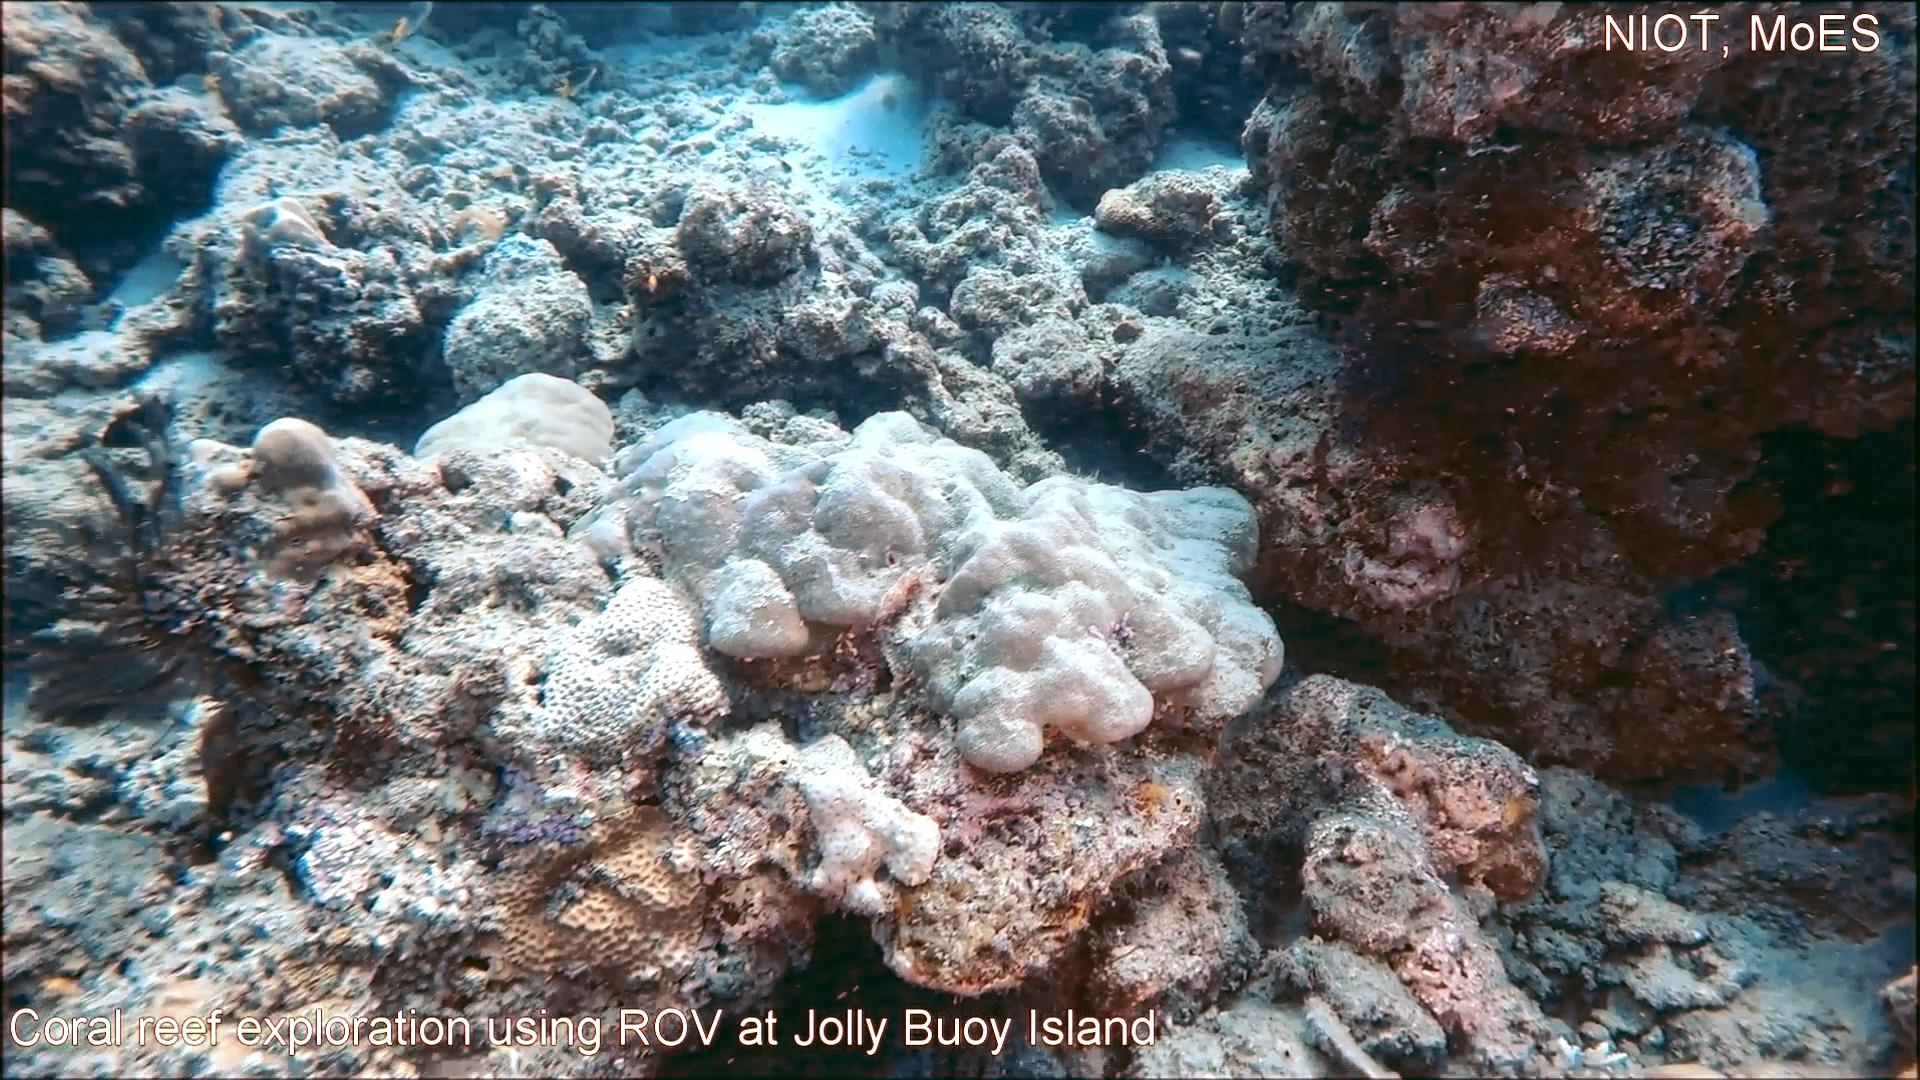Feather star-Crinoid star: (0, 352, 225, 756)
Goniastrea-Goniastrea pectinata: (535, 567, 741, 771)
Porites-Porites pukoensis: (808, 405, 1290, 782)
